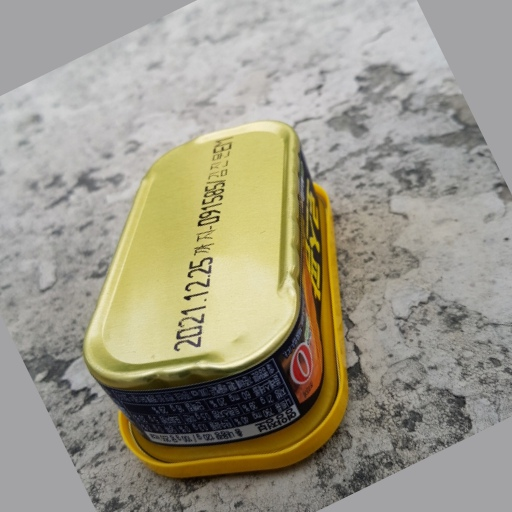Metal_2: (79, 118, 349, 479)
